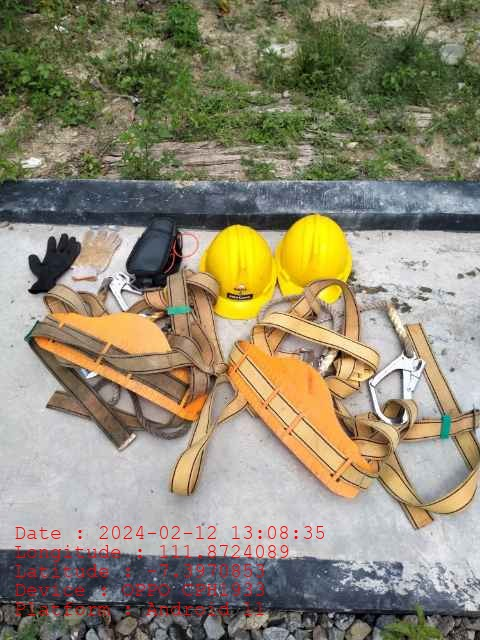SARUNG_TANGAN: (26, 233, 79, 292)
